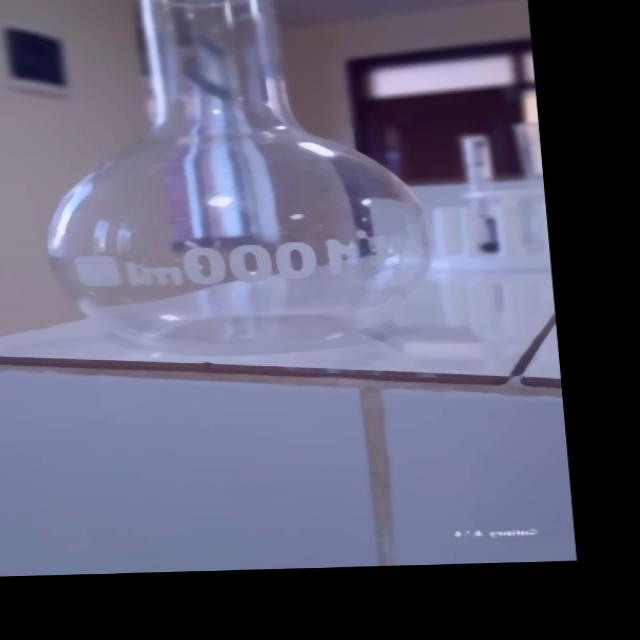Round Bottom Flask: (11, 0, 442, 357)
